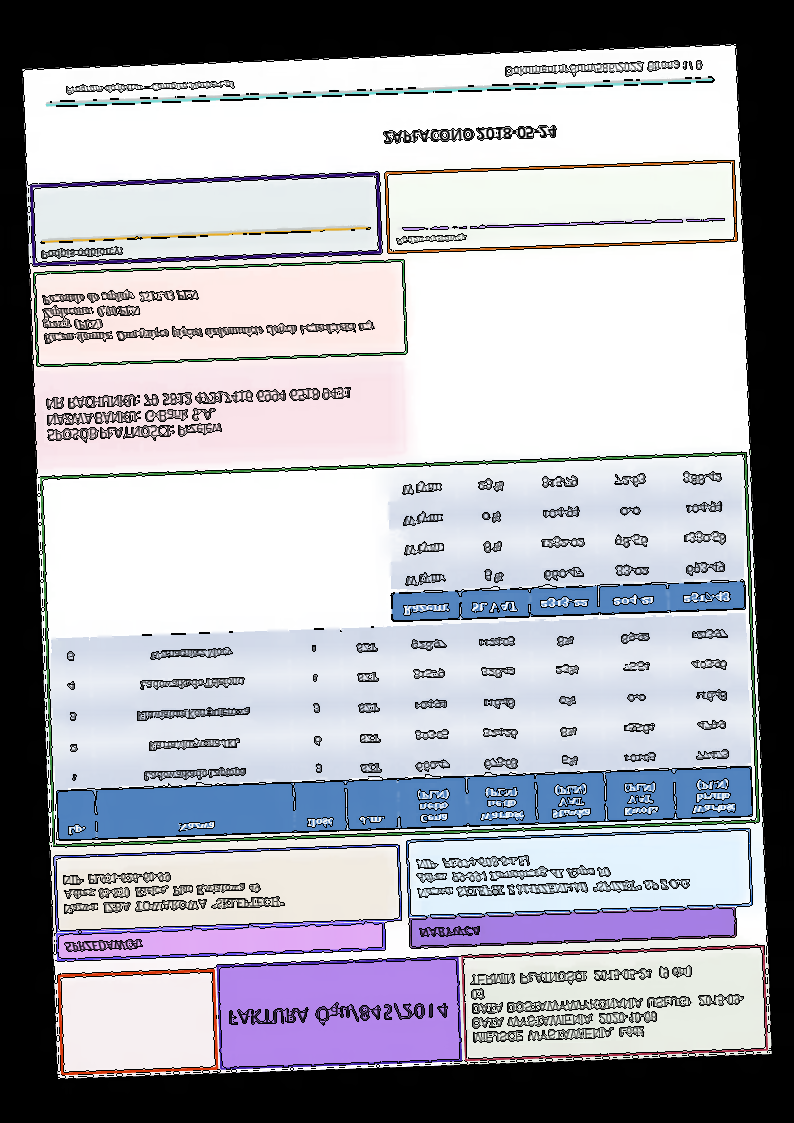Table: (49, 615, 752, 844), (386, 456, 747, 624)
TextBox: (467, 960, 748, 1048), (39, 281, 378, 348), (43, 382, 357, 447), (414, 849, 693, 903), (59, 863, 287, 919), (225, 996, 450, 1032), (382, 121, 560, 148), (501, 58, 702, 81), (63, 78, 235, 98), (38, 244, 126, 263), (394, 230, 469, 251), (63, 936, 144, 955), (415, 922, 487, 942)
